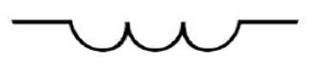inductor: (47, 9, 254, 54)
